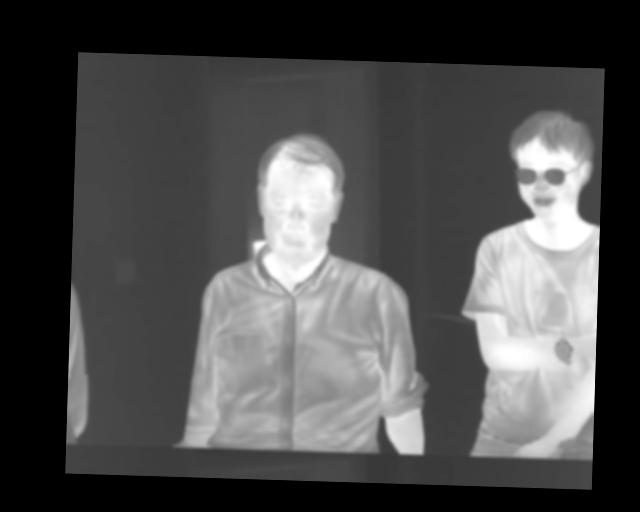face: (253, 130, 347, 267), (510, 107, 596, 222)
